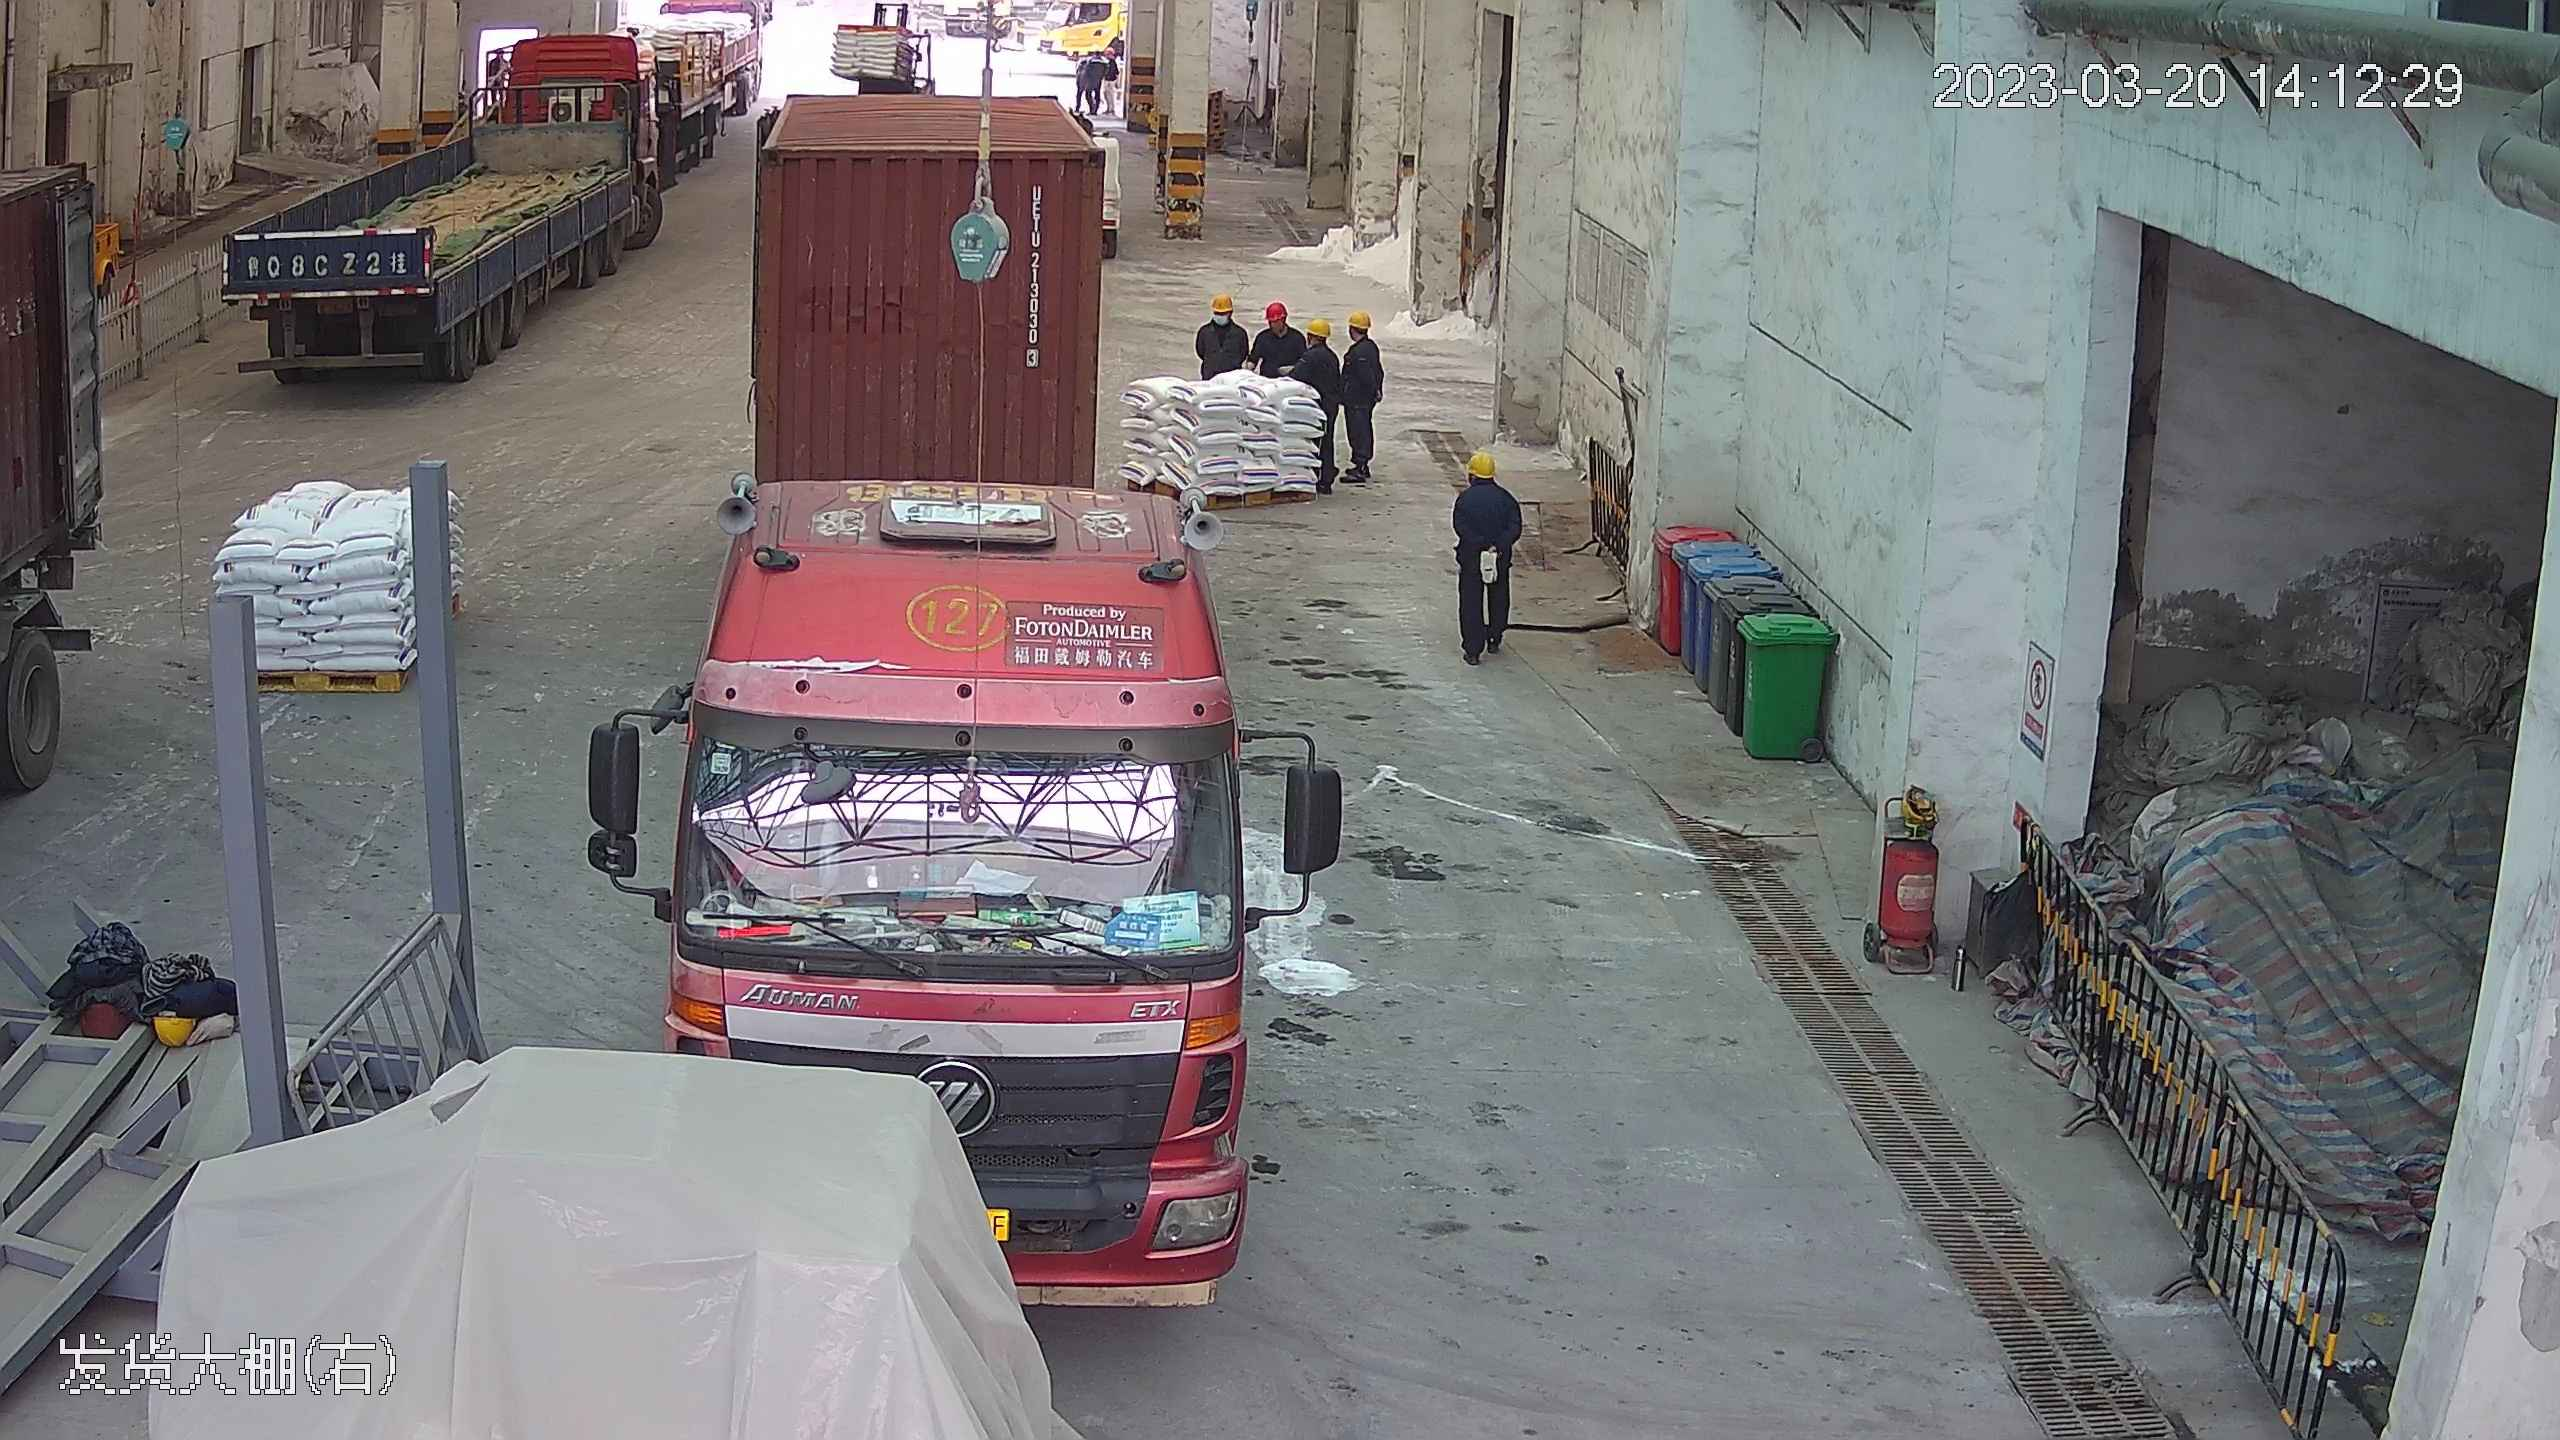head: (1447, 442, 1527, 657), (1453, 450, 1521, 520), (1196, 289, 1248, 346), (1248, 297, 1297, 355), (1338, 308, 1382, 365), (1297, 313, 1341, 370)
helmet: (1340, 307, 1380, 363), (1466, 448, 1499, 474), (1304, 316, 1333, 339), (1258, 299, 1285, 320), (1210, 288, 1236, 307), (1348, 308, 1373, 327), (1104, 47, 1114, 56)
people: (1447, 443, 1523, 660), (1295, 313, 1351, 493), (1333, 307, 1384, 483), (1103, 46, 1120, 116)
truck: (645, 25, 1259, 1277), (202, 15, 700, 383)
